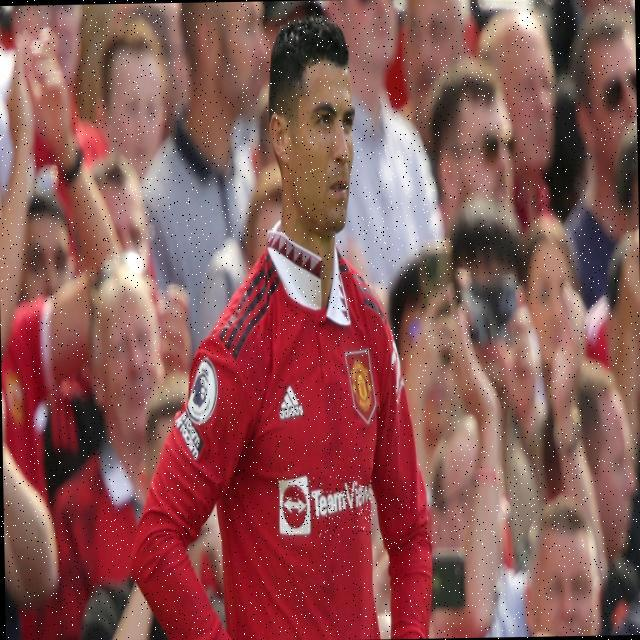Adidas: (277, 378, 306, 419)
TeamViewer: (278, 475, 373, 537)
